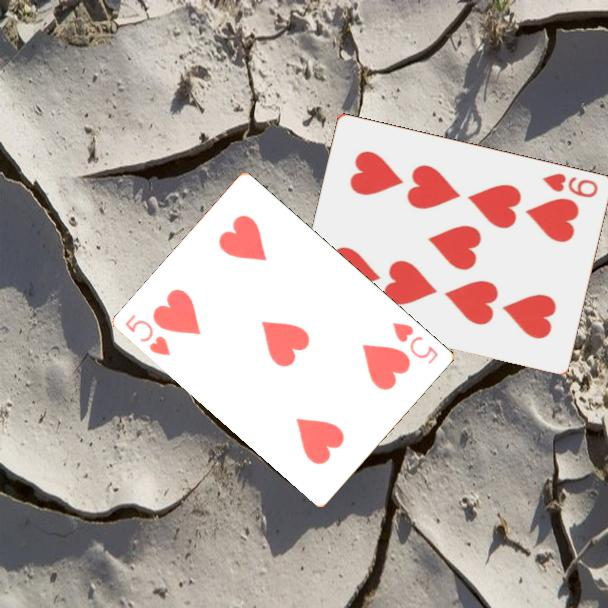h05: (389, 319, 442, 367), (122, 311, 174, 359)
h09: (539, 170, 601, 200)
